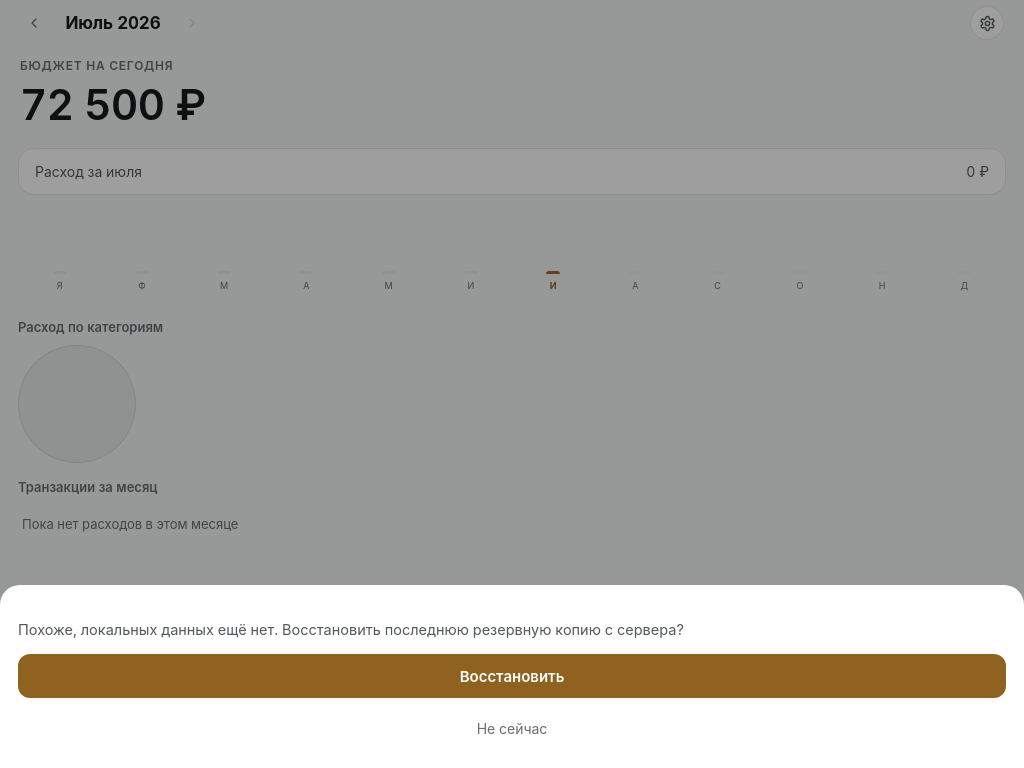
Test: App — restore prompt on an empty launch › opens Settings instead of restoring when confirmed while not logged in, reusing its login form rather than a second one
This screenshot has width=1024, height=768.
Step 1. Click the button with class "restore-prompt__confirm" → x=512, y=676, box [18,654,1006,698]
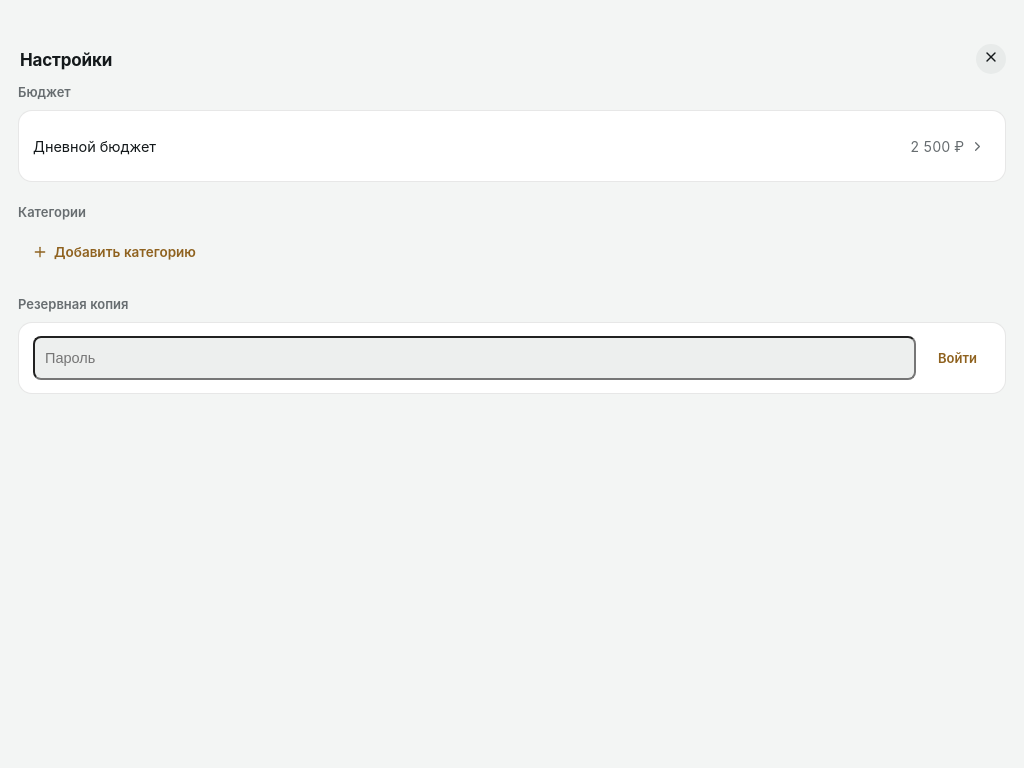
Result: the element that starts with "Настройки" is shown
